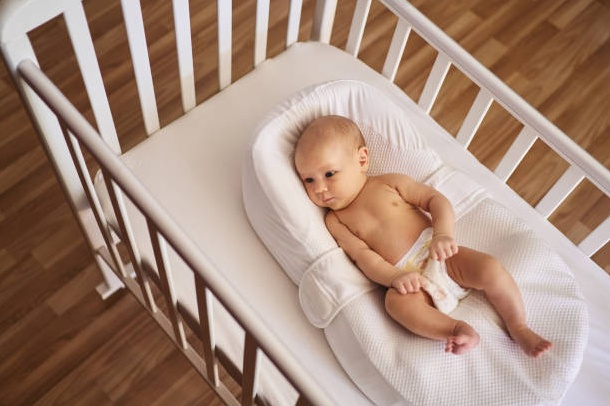baby: (294, 115, 551, 356)
crib: (0, 0, 372, 403)
